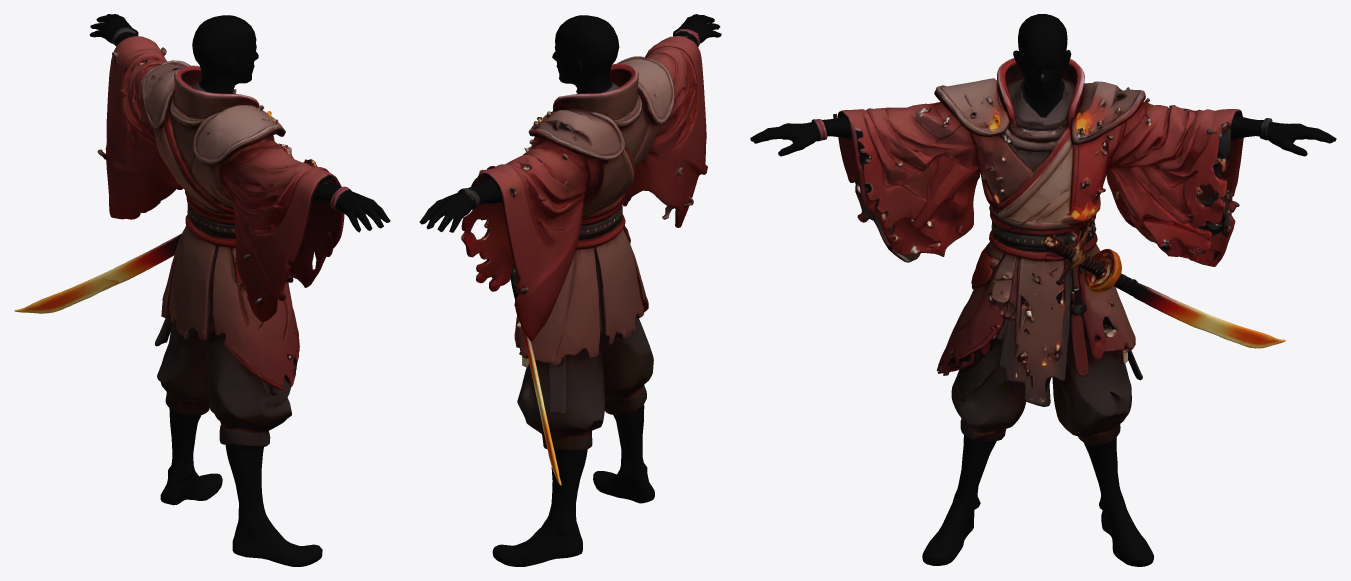
File: ember-ronin.glb
3 views of the same model, side by side, from view 1: azimuth 30°, elevation 25°; view 2: azimuth 150°, elevation 25°; view 3: azimuth 270°, elevation 25° (orthographic). The views are drawn at different scales.
Visible parts, largest first — view 1: tripo_node_67fa32c1-e51f-4a7d-b9d7-7e0dd6c2e695; view 2: tripo_node_67fa32c1-e51f-4a7d-b9d7-7e0dd6c2e695; view 3: tripo_node_67fa32c1-e51f-4a7d-b9d7-7e0dd6c2e695.
Part boxes in pixels (x1,y1,x2,y2): tripo_node_67fa32c1-e51f-4a7d-b9d7-7e0dd6c2e695: (14, 14, 390, 566); tripo_node_67fa32c1-e51f-4a7d-b9d7-7e0dd6c2e695: (419, 14, 721, 566); tripo_node_67fa32c1-e51f-4a7d-b9d7-7e0dd6c2e695: (750, 14, 1336, 566).
Size of the model in its own units: 0.3823 by 0.9982 by 1.
1 material, 1 textured.
